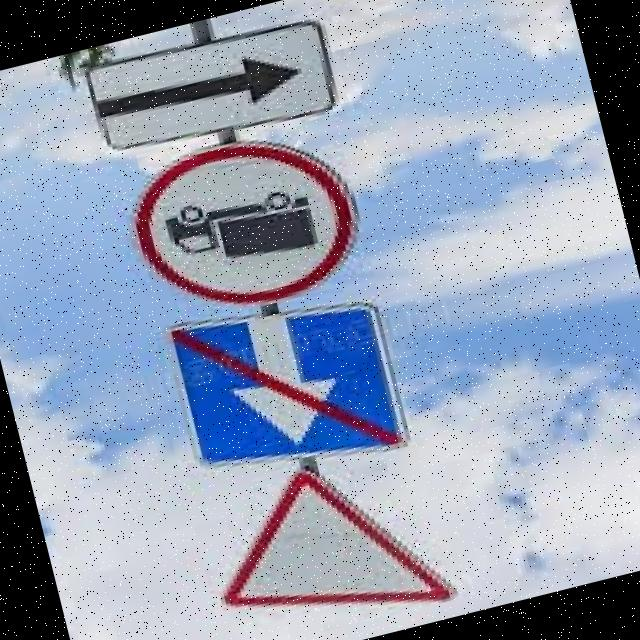do_not_enter: (99, 92, 438, 335)
give_way: (161, 430, 477, 640)
